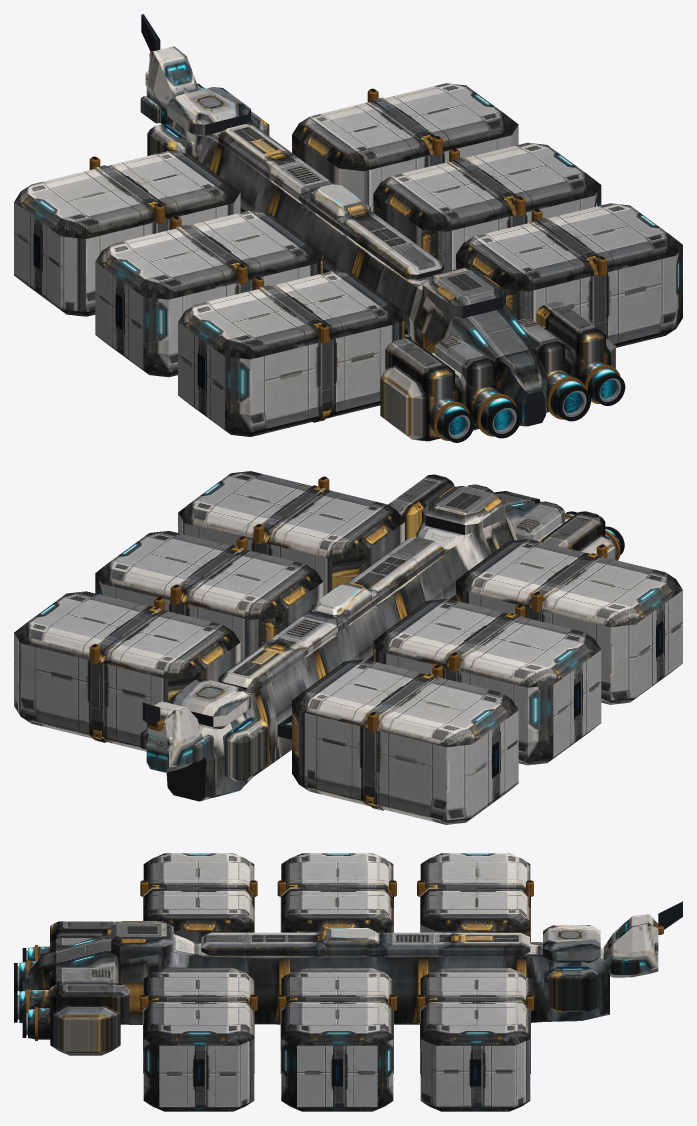
File: freighter.obj
The picture shows the model from 3 angles, top to bottom: view 1: azimuth 30°, elevation 25°; view 2: azimuth 150°, elevation 25°; view 3: azimuth 270°, elevation 25°; orthographic projection. The views are drawn at different scales.
Visible parts, largest first — view 1: cargo.3.port_|_chamfered_freight_pod, cargo.3.starboard_|_chamfered_freight_pod, cargo.2.port_|_chamfered_freight_pod, cargo.1.port_|_chamfered_freight_pod, 01_|_central_structural_keel, cargo.2.starboard_|_chamfered_freight_pod, cargo.1.starboard_|_chamfered_freight_pod, 02_|_dorsal_cargo-management_spine, stern_|_main_machinery_deck, 05_|_aft_drive_control_module, 03_|_forward_navigation_fairing, engine.1_|_raised_armored_cowl (+16 smaller); view 2: cargo.1.port_|_chamfered_freight_pod, cargo.1.starboard_|_chamfered_freight_pod, cargo.2.port_|_chamfered_freight_pod, cargo.3.port_|_chamfered_freight_pod, cargo.2.starboard_|_chamfered_freight_pod, 01_|_central_structural_keel, cargo.3.starboard_|_chamfered_freight_pod, 02_|_dorsal_cargo-management_spine, 05_|_aft_drive_control_module, bridge_|_pressure_cabin, 03_|_forward_navigation_fairing, bridge_|_port_shoulder_fairing (+11 smaller); view 3: 01_|_central_structural_keel, cargo.2.starboard_|_chamfered_freight_pod, cargo.3.starboard_|_chamfered_freight_pod, cargo.1.starboard_|_chamfered_freight_pod, cargo.1.port_|_chamfered_freight_pod, cargo.3.port_|_chamfered_freight_pod, cargo.2.port_|_chamfered_freight_pod, 02_|_dorsal_cargo-management_spine, stern_|_main_machinery_deck, bridge_|_pressure_cabin, 05_|_aft_drive_control_module, bridge_|_starboard_shoulder_fairing (+15 smaller).
Part boxes in pixels (x1,y1,x2,y2): cargo.3.port_|_chamfered_freight_pod: (178,271,404,436); cargo.3.starboard_|_chamfered_freight_pod: (456,203,682,347); cargo.2.port_|_chamfered_freight_pod: (95,210,323,377); cargo.1.port_|_chamfered_freight_pod: (14,151,240,316); 01_|_central_structural_keel: (171,120,547,426); cargo.2.starboard_|_chamfered_freight_pod: (373,142,601,272); cargo.1.starboard_|_chamfered_freight_pod: (292,83,518,211); 02_|_dorsal_cargo-management_spine: (218,124,443,280); stern_|_main_machinery_deck: (380,326,615,441); 05_|_aft_drive_control_module: (422,267,505,319); 03_|_forward_navigation_fairing: (167,87,250,136); engine.1_|_raised_armored_cowl: (385,338,454,403); cargo.1.port_|_chamfered_freight_pod: (292,659,518,824); cargo.1.starboard_|_chamfered_freight_pod: (14,591,240,751); cargo.2.port_|_chamfered_freight_pod: (373,598,601,765); cargo.3.port_|_chamfered_freight_pod: (456,539,682,704); cargo.2.starboard_|_chamfered_freight_pod: (95,531,323,660); 01_|_central_structural_keel: (166,491,540,801); cargo.3.starboard_|_chamfered_freight_pod: (178,471,404,596); 02_|_dorsal_cargo-management_spine: (218,537,444,693); 05_|_aft_drive_control_module: (422,486,505,538); bridge_|_pressure_cabin: (146,701,202,772); 03_|_forward_navigation_fairing: (167,679,250,729); bridge_|_port_shoulder_fairing: (223,717,269,781); 01_|_central_structural_keel: (22,934,609,1024); cargo.2.starboard_|_chamfered_freight_pod: (281,967,393,1111); cargo.3.starboard_|_chamfered_freight_pod: (143,967,254,1111); cargo.1.starboard_|_chamfered_freight_pod: (420,967,530,1111); cargo.1.port_|_chamfered_freight_pod: (420,853,530,936); cargo.3.port_|_chamfered_freight_pod: (143,853,254,942); cargo.2.port_|_chamfered_freight_pod: (281,853,393,932); 02_|_dorsal_cargo-management_spine: (201,932,530,956); stern_|_main_machinery_deck: (50,1005,120,1055); bridge_|_pressure_cabin: (603,914,658,977); 05_|_aft_drive_control_module: (111,921,173,959); bridge_|_starboard_shoulder_fairing: (549,966,597,1011).
Bounding box in the file's own units: 11.1 × 3.29 × 16.6.
7 materials, 2 textured.
